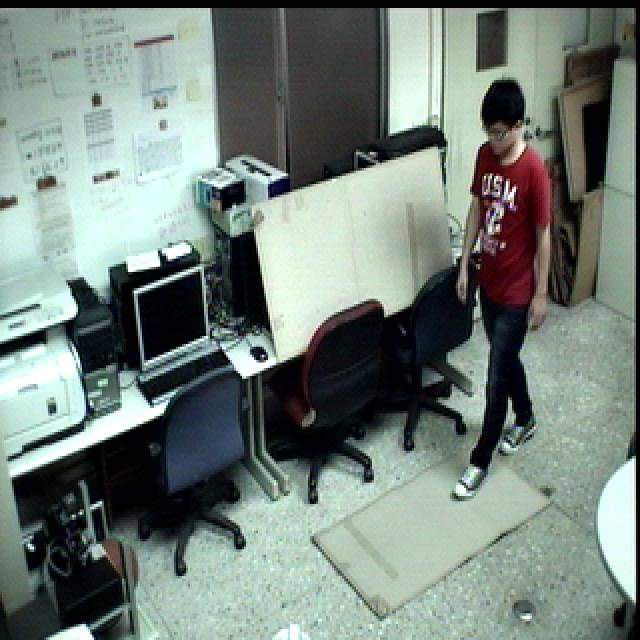stand: (448, 78, 555, 503)
